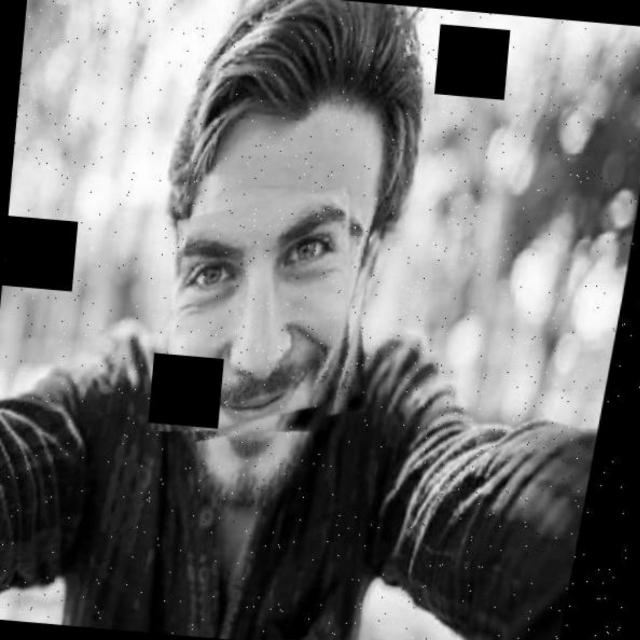Happy: (158, 61, 392, 509)
